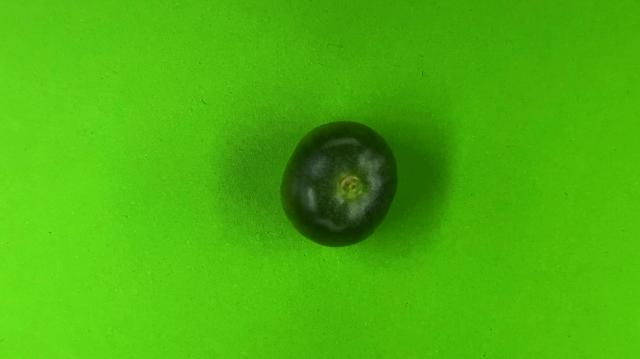Fruit Maturation: (277, 119, 401, 249)
